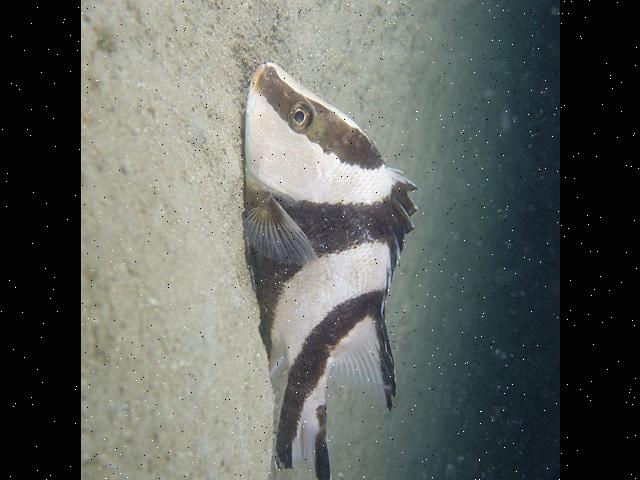Mulut: (228, 40, 296, 108)
Sirip Dada: (228, 188, 326, 278)
Sirip Ekor: (242, 399, 360, 480)
Sirip Punggung: (332, 160, 436, 414)
